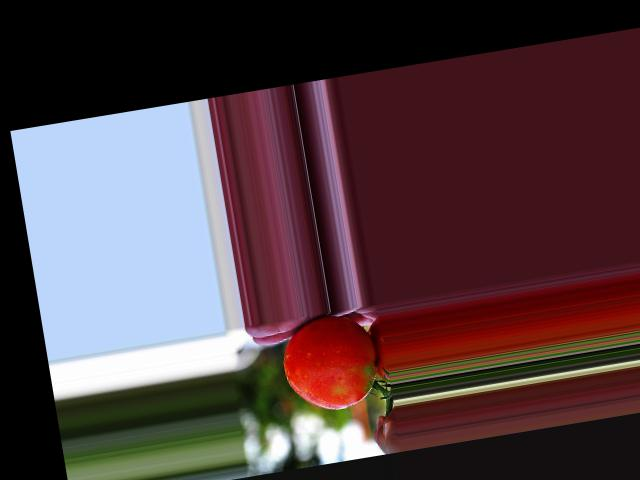tomato: (277, 310, 382, 416)
